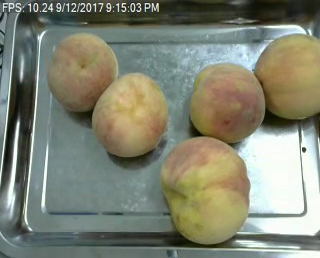Peach: (161, 135, 250, 245), (91, 74, 169, 158), (188, 62, 265, 142), (47, 31, 118, 112), (255, 33, 320, 119)
